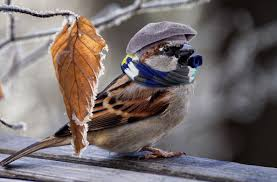hsparrow: (1, 21, 205, 180)
